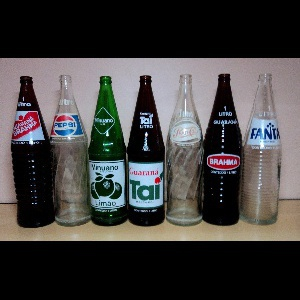emptybottle: (10, 75, 56, 228), (202, 72, 243, 225), (241, 73, 282, 225), (49, 75, 89, 227), (126, 75, 166, 227), (88, 76, 127, 227), (167, 74, 204, 226)
